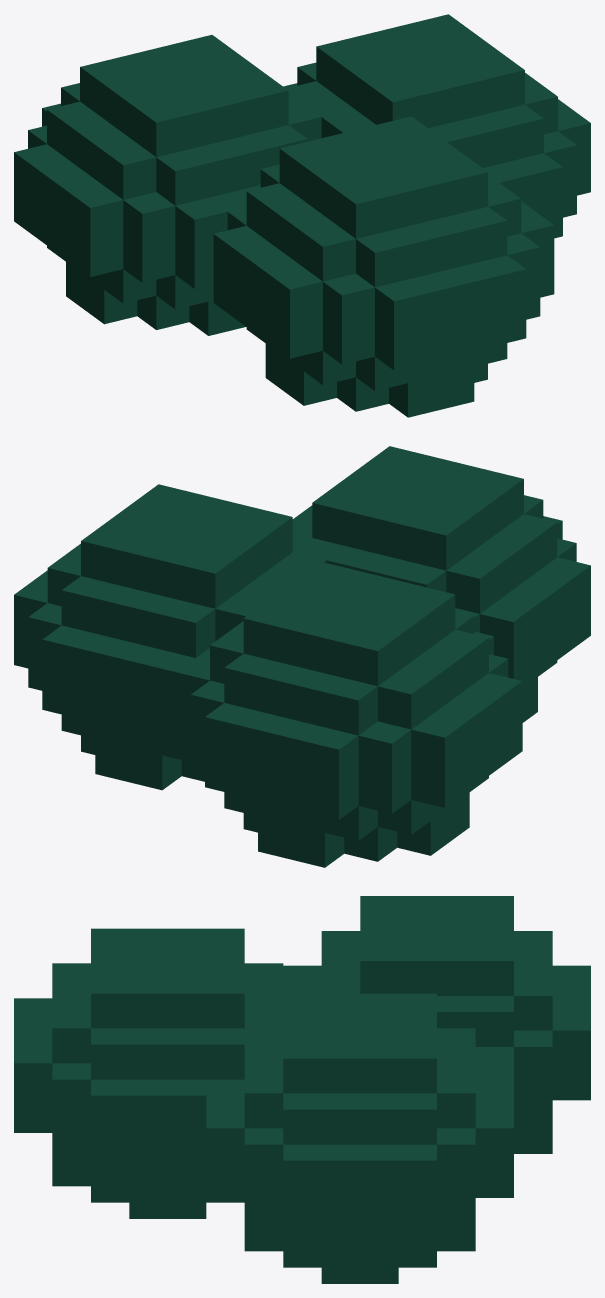
Rendered from bush_three_1.obj.
3 renders of one model, top to bottom at view 1: azimuth 30°, elevation 25°; view 2: azimuth 150°, elevation 25°; view 3: azimuth 270°, elevation 25°, orthographic.
Size of the model in its own units: 1.4 by 0.6 by 1.5.
Materials: 1 (1 with a texture image).
